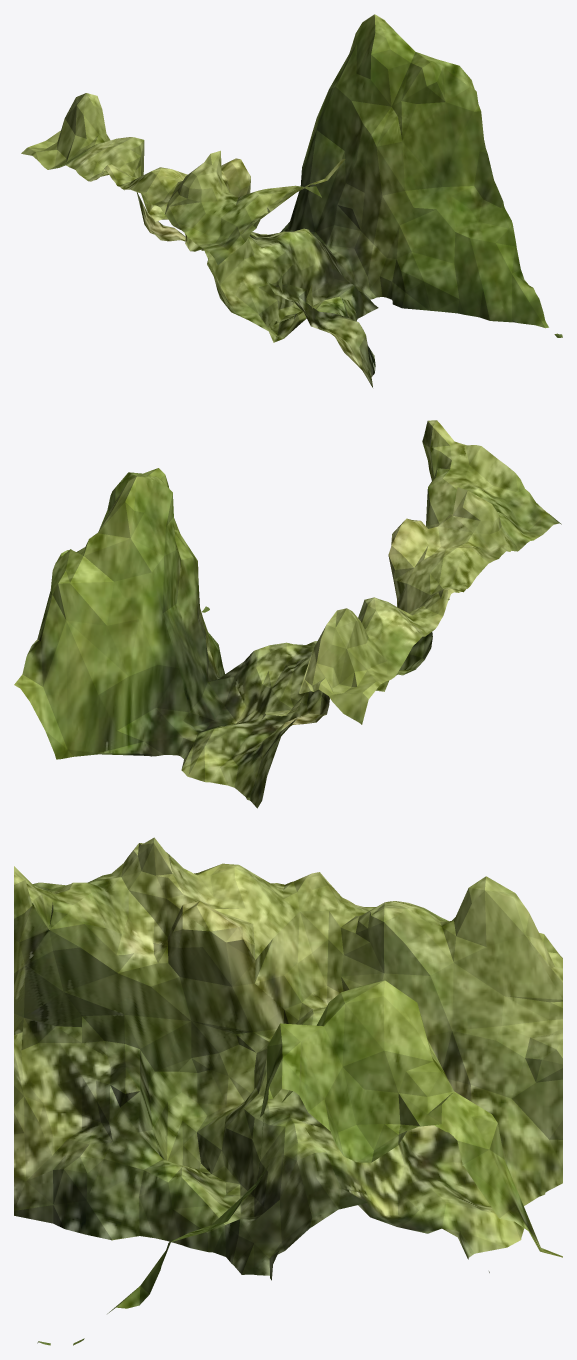
The picture shows the model from 3 angles, top to bottom: view 1: azimuth 30°, elevation 25°; view 2: azimuth 150°, elevation 25°; view 3: azimuth 270°, elevation 25°; orthographic projection. The views are drawn at different scales.
Bounding box in the file's own units: 2.95 × 1.94 × 2.95.
4 materials, 4 textured.
